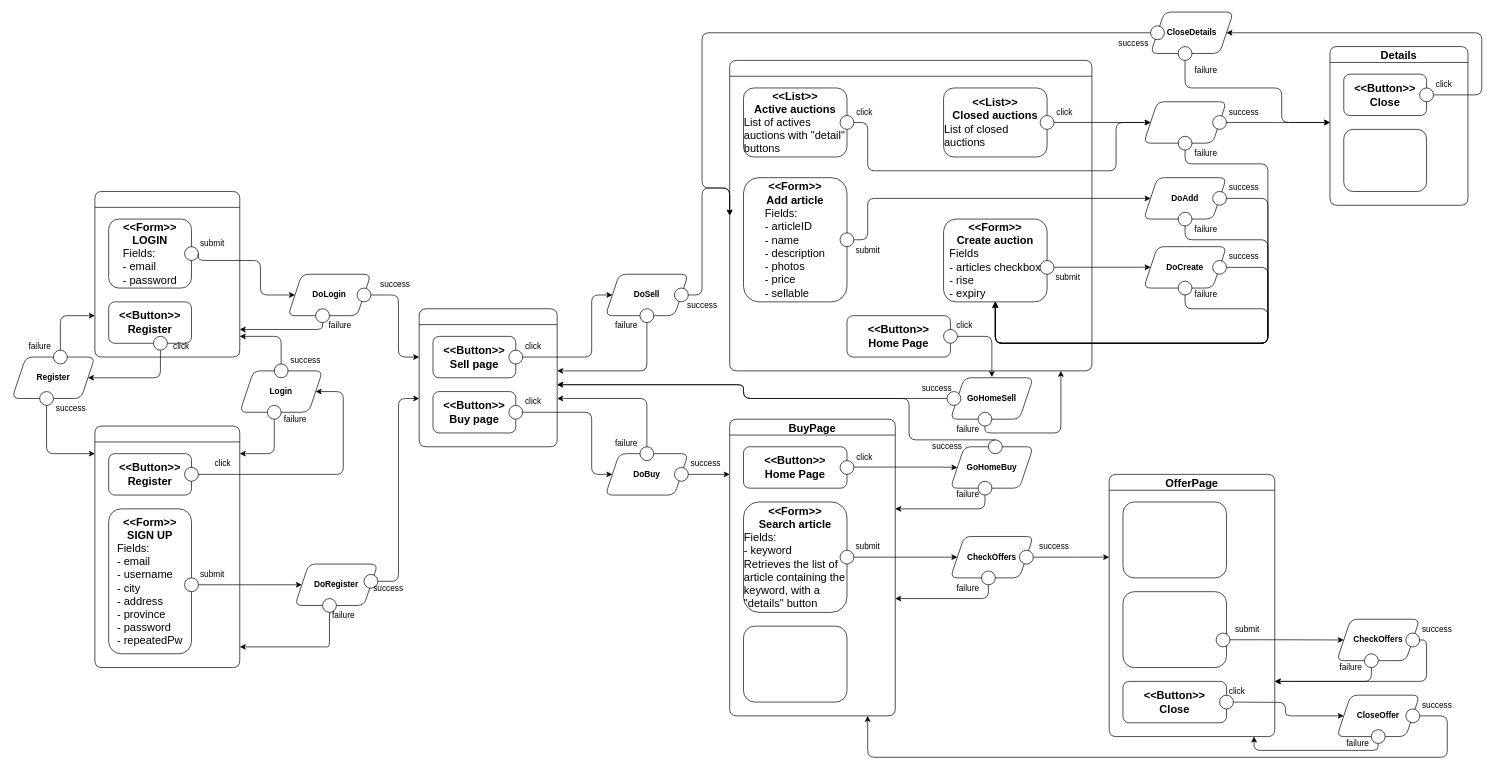
Some shapes in this 1499 by 775 pixel diagram are drawn without their labels. The box of each missing label's shape, as (x1, y1, x2, y2) in pixels:
<<Form>> Make offer Fields: - price - submit button: (1122, 591, 1226, 668)
<<List>> Articles won Fields: - articles data - final price: (743, 625, 847, 702)
<<List>> Auction's offer Fields: - articles data - final price: (1122, 501, 1226, 578)
<<List>> Fields - auction details - offers' list: (1343, 129, 1427, 191)
Authentication Page: (94, 191, 240, 357)
CheckDetails: (1143, 101, 1226, 143)
Home Page: (418, 308, 557, 447)
Registration Page: (94, 425, 240, 668)
SellPage: (729, 60, 1092, 371)
